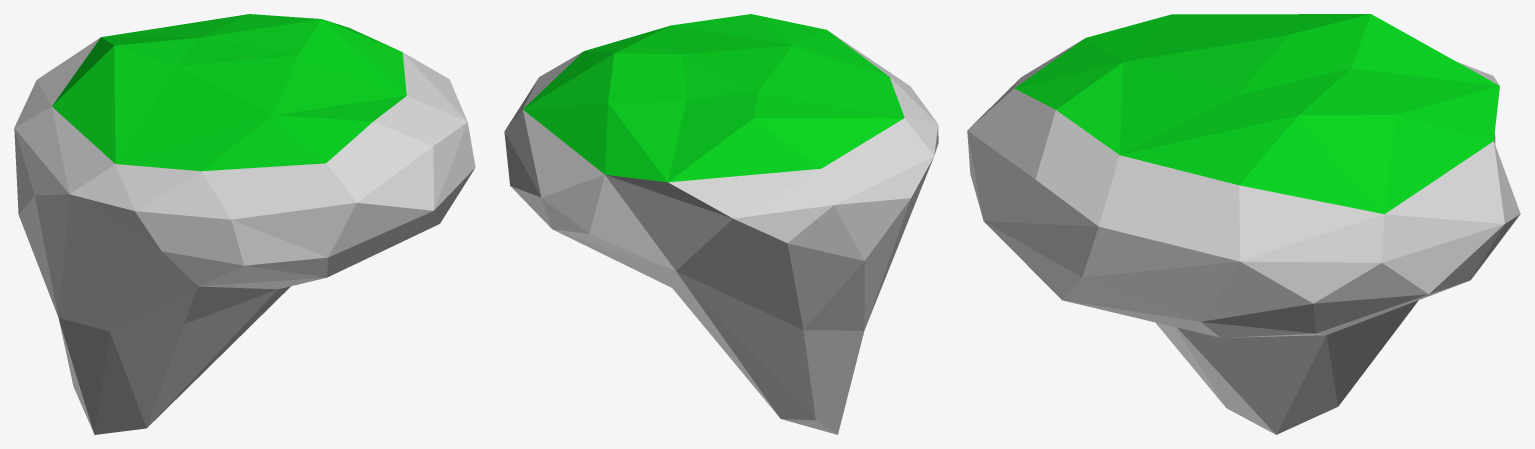
The model's file is ak_wall_platform_rock01.fbx.
3 views of the same model, side by side, from view 1: azimuth 30°, elevation 25°; view 2: azimuth 150°, elevation 25°; view 3: azimuth 270°, elevation 25° (orthographic). The views are drawn at different scales.
Parts seen in each view (by area): view 1: Icosphere; view 2: Icosphere; view 3: Icosphere.
Boxes of the visible parts, <box> form: Icosphere: <box>14,14,475,434</box>; Icosphere: <box>504,14,938,434</box>; Icosphere: <box>967,14,1520,434</box>.
Bounding box in the file's own units: 185 × 154 × 177.
